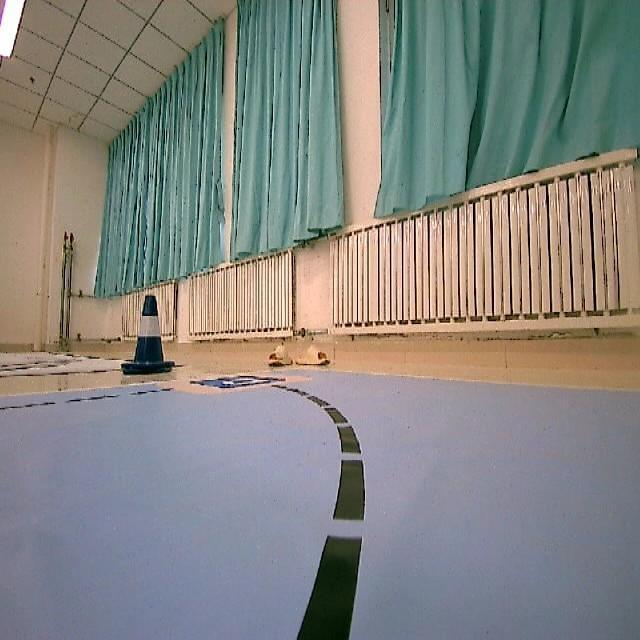obstacle: (121, 292, 172, 383)
